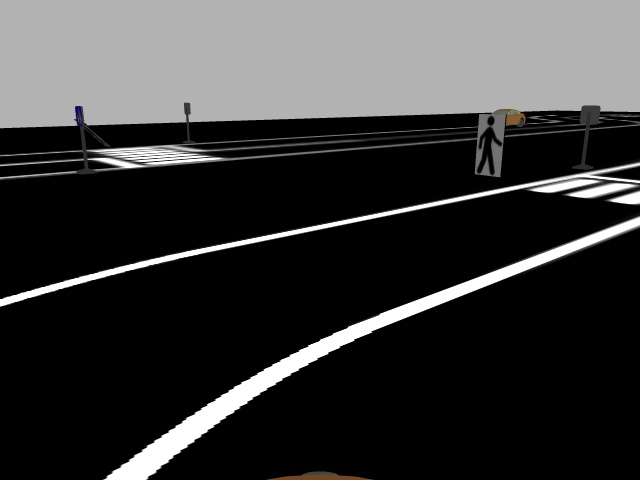pedestrian: (475, 112, 504, 177)
